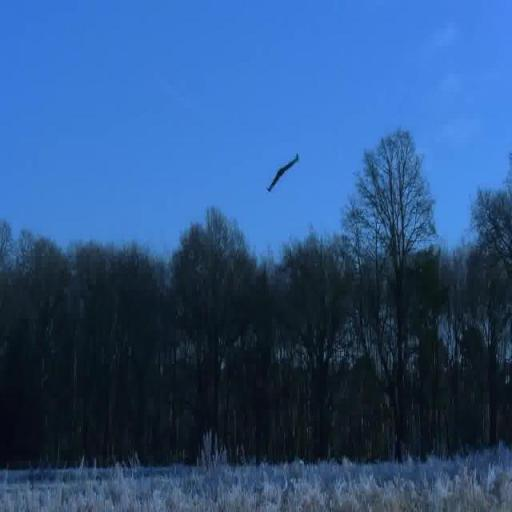uav: (266, 149, 302, 197)
